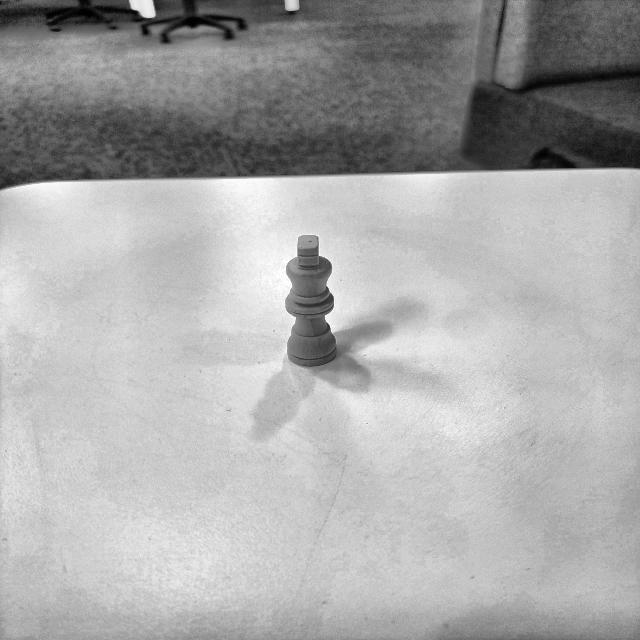white-king: (286, 234, 339, 367)
